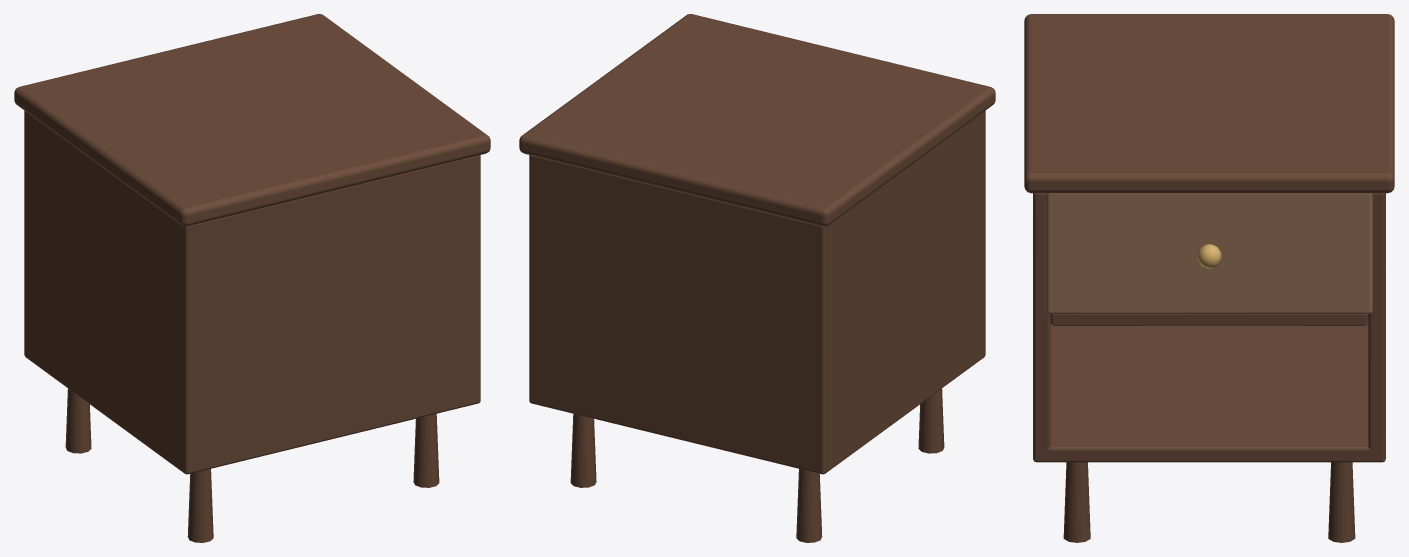
File: nightstand.fbx
3 views of the same model, side by side, from view 1: azimuth 30°, elevation 25°; view 2: azimuth 150°, elevation 25°; view 3: azimuth 270°, elevation 25° (orthographic). The views are drawn at different scales.
Visible parts, largest first — view 1: nightstand; view 2: nightstand; view 3: nightstand, Bedside_Drawer.
Boxes of the visible parts, bbox=[...] form: nightstand: bbox=[14, 14, 490, 542]; nightstand: bbox=[519, 14, 995, 542]; nightstand: bbox=[1024, 14, 1394, 542]; Bedside_Drawer: bbox=[1046, 193, 1372, 313].
Size of the model in its own units: 0.456 by 0.48 by 0.42.
